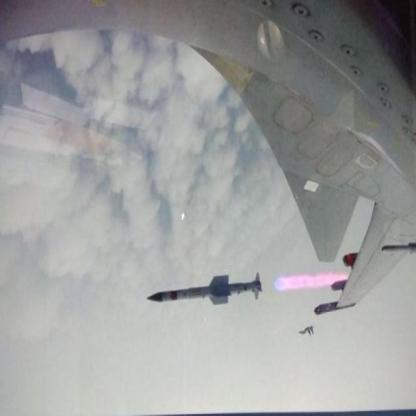MIL_TBM: (142, 268, 264, 310)
